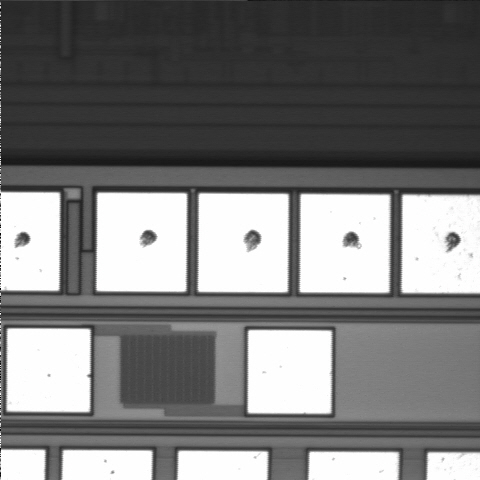pad: (97, 193, 187, 292), (300, 194, 390, 293), (198, 194, 288, 292), (248, 330, 331, 414), (7, 329, 90, 412)
